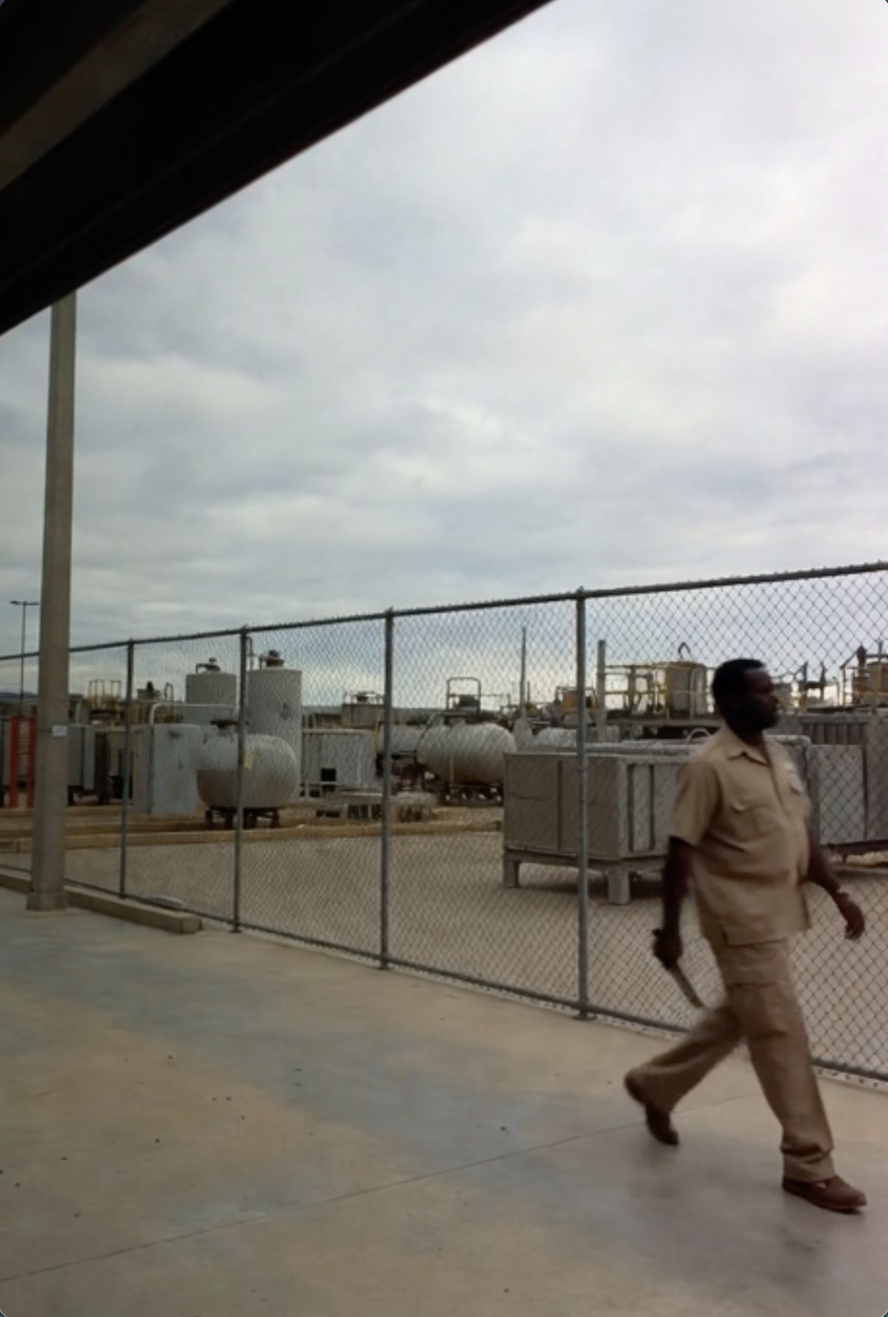Heavy Gun: (623, 653, 875, 1224)
Knife: (635, 927, 716, 1019)
